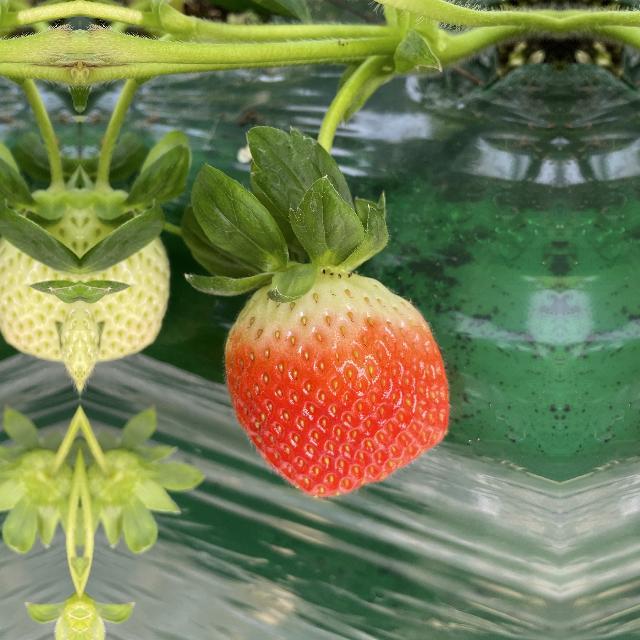Health_100: (210, 252, 462, 500)
Health_25: (80, 194, 172, 362), (0, 193, 80, 362)
